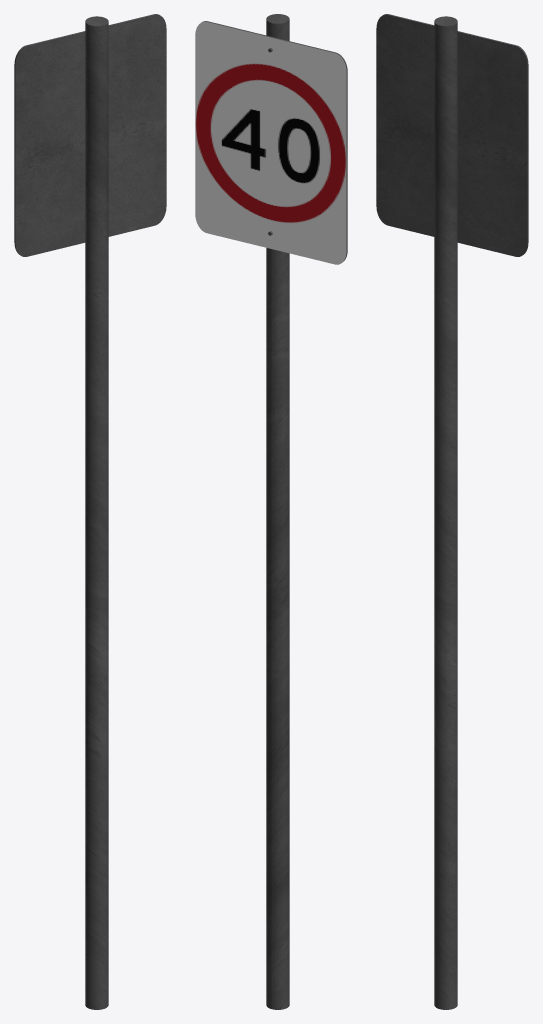
The model's file is 40limit.glb.
The picture shows the model from 3 angles, left to right: view 1: azimuth 30°, elevation 25°; view 2: azimuth 150°, elevation 25°; view 3: azimuth 330°, elevation 25°; orthographic projection.
Visible parts, largest first — view 1: Cube.001_0, Cylinder_3; view 2: Cube.001_0, Cylinder_3; view 3: Cube.001_0, Cylinder_3.
Boxes of the visible parts, x1,y1,x2,y2 form: Cube.001_0: (14, 14, 166, 256); Cylinder_3: (85, 16, 108, 1009); Cube.001_0: (195, 21, 347, 264); Cylinder_3: (266, 14, 289, 1009); Cube.001_0: (376, 14, 528, 256); Cylinder_3: (434, 16, 457, 1009).
Size of the model in its own units: 0.9 by 5.6 by 0.1446.
Materials: 5 (5 with a texture image).
